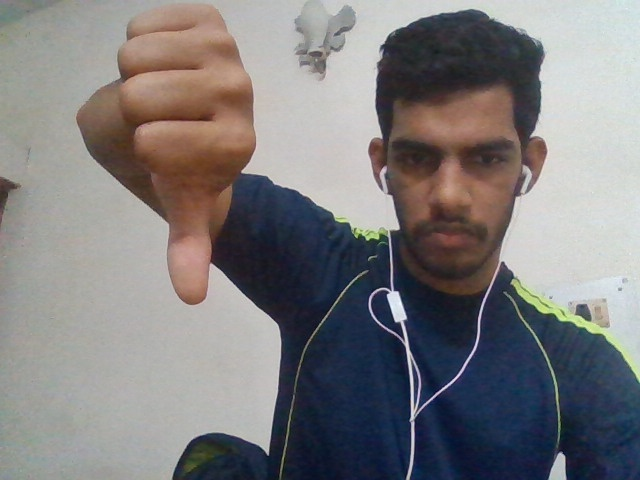no: (118, 7, 267, 309)
